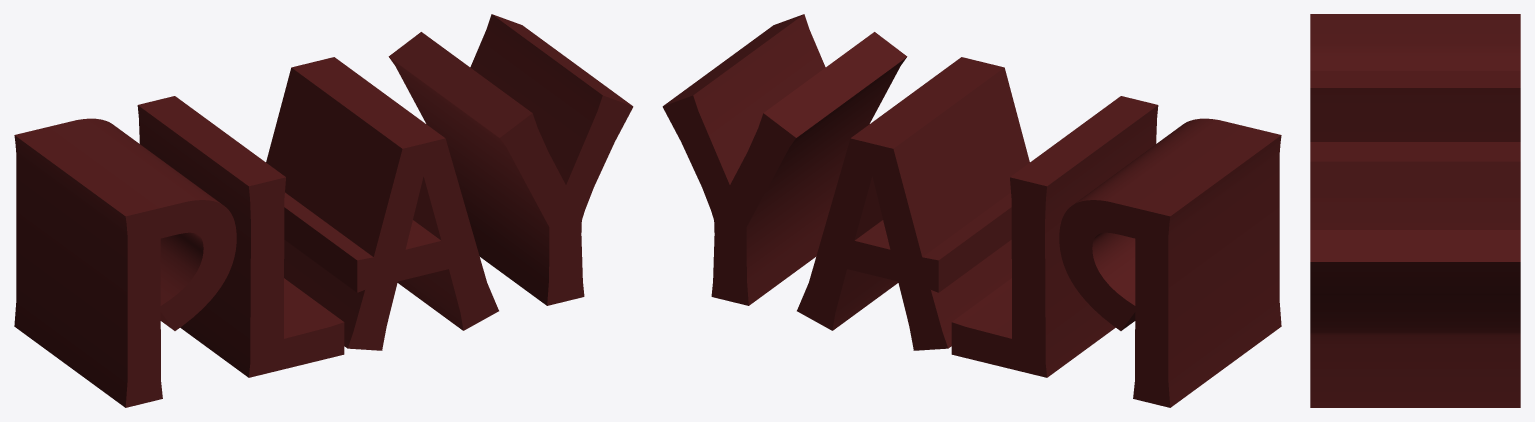
File: play.dae
The picture shows the model from 3 angles, left to right: view 1: azimuth 30°, elevation 25°; view 2: azimuth 150°, elevation 25°; view 3: azimuth 270°, elevation 25°; orthographic projection. The views are drawn at different scales.
Visible parts, largest first — view 1: PLAY_; view 2: PLAY_; view 3: PLAY_.
Boxes of the visible parts, <box> form: PLAY_: <box>14,14,633,407</box>; PLAY_: <box>662,14,1281,407</box>; PLAY_: <box>1310,14,1520,407</box>.
Size of the model in its own units: 191 by 72.55 by 72.55.
